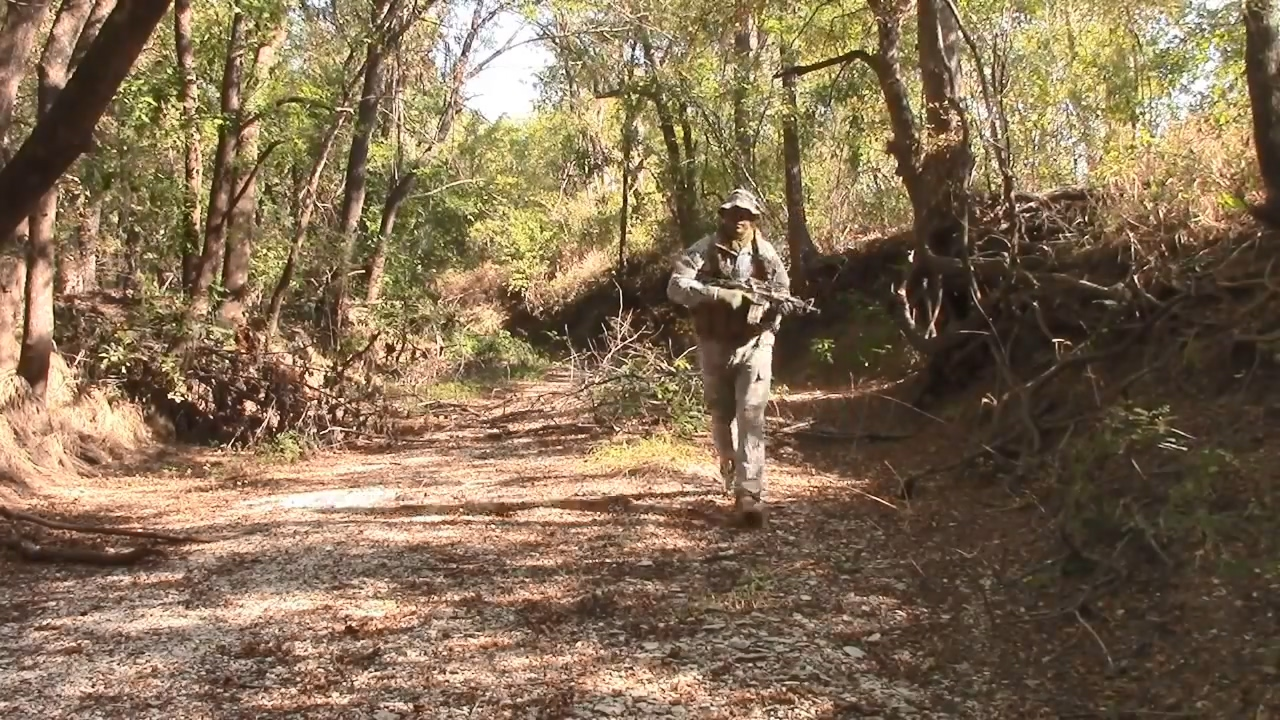person: (658, 184, 809, 523)
